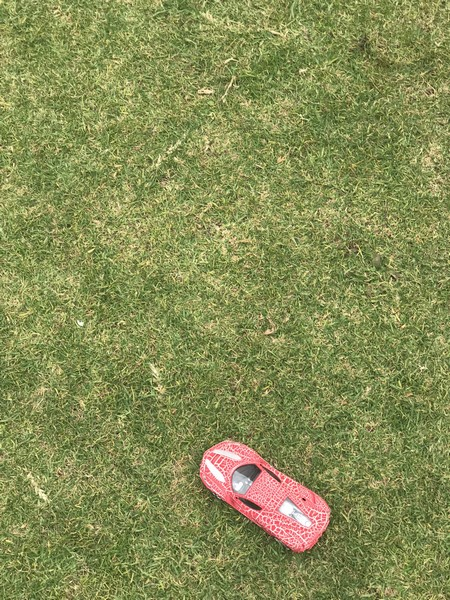RC: (194, 436, 332, 555)
